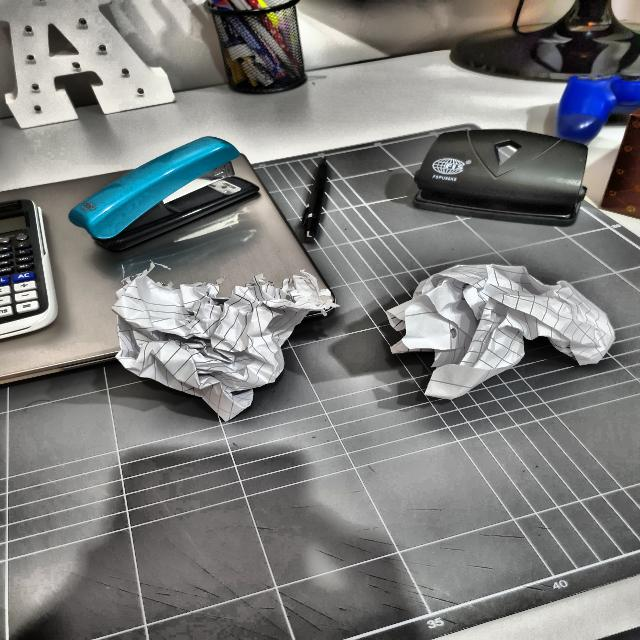Paper: (108, 274, 333, 416), (380, 264, 610, 400)
